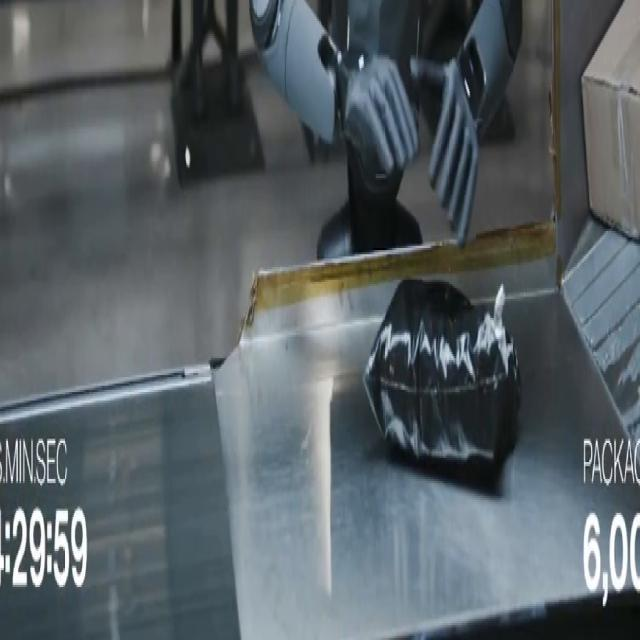package: (364, 280, 520, 472), (582, 0, 639, 239)
